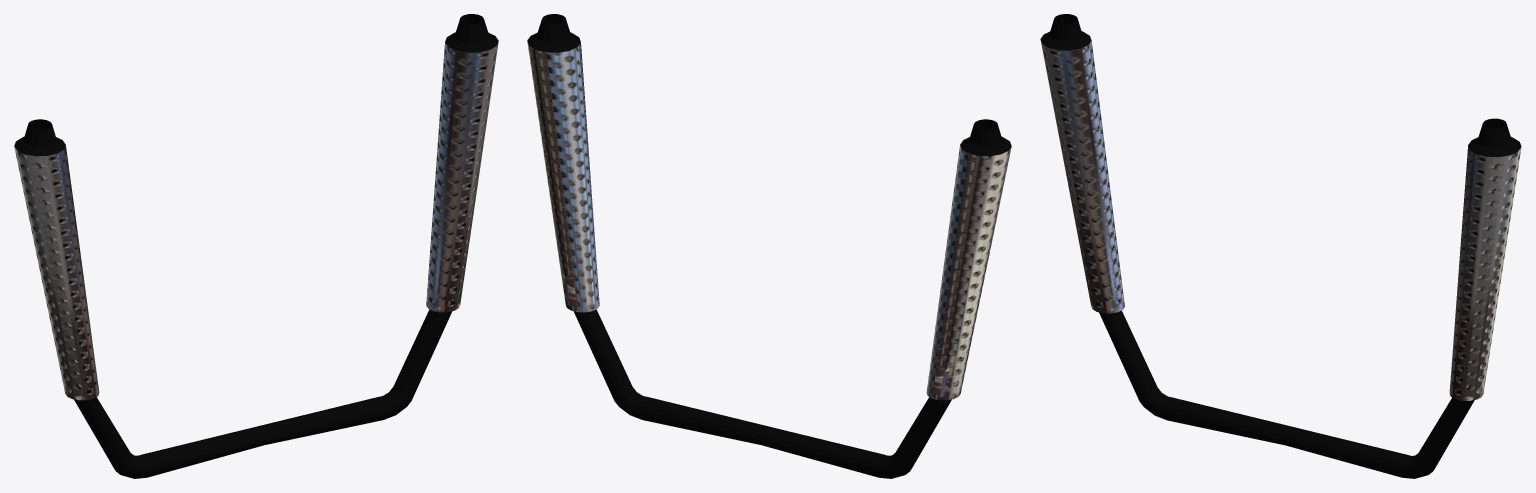
The picture shows the model from 3 angles, left to right: view 1: azimuth 30°, elevation 25°; view 2: azimuth 150°, elevation 25°; view 3: azimuth 330°, elevation 25°; orthographic projection.
Parts seen in each view (by area): view 1: polySurface3; view 2: polySurface3; view 3: polySurface3.
Boxes of the visible parts, x1,y1,x2,y2 form: polySurface3: (14,14,498,478); polySurface3: (527,14,1011,478); polySurface3: (1040,14,1521,478).
Bounding box in the file's own units: 0.0823 × 0.0623 × 0.00785.
